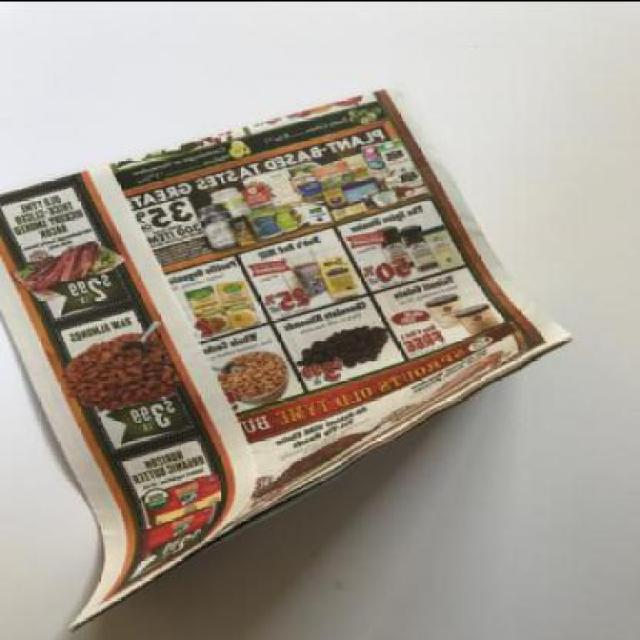paper: (1, 84, 574, 638)
